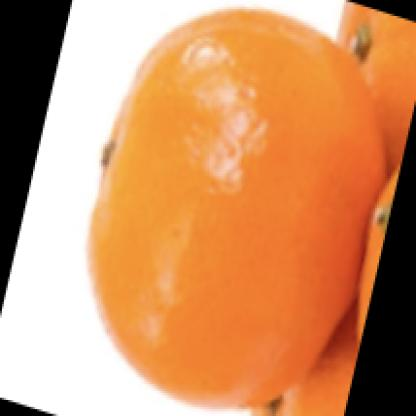orange: (79, 6, 384, 390)
